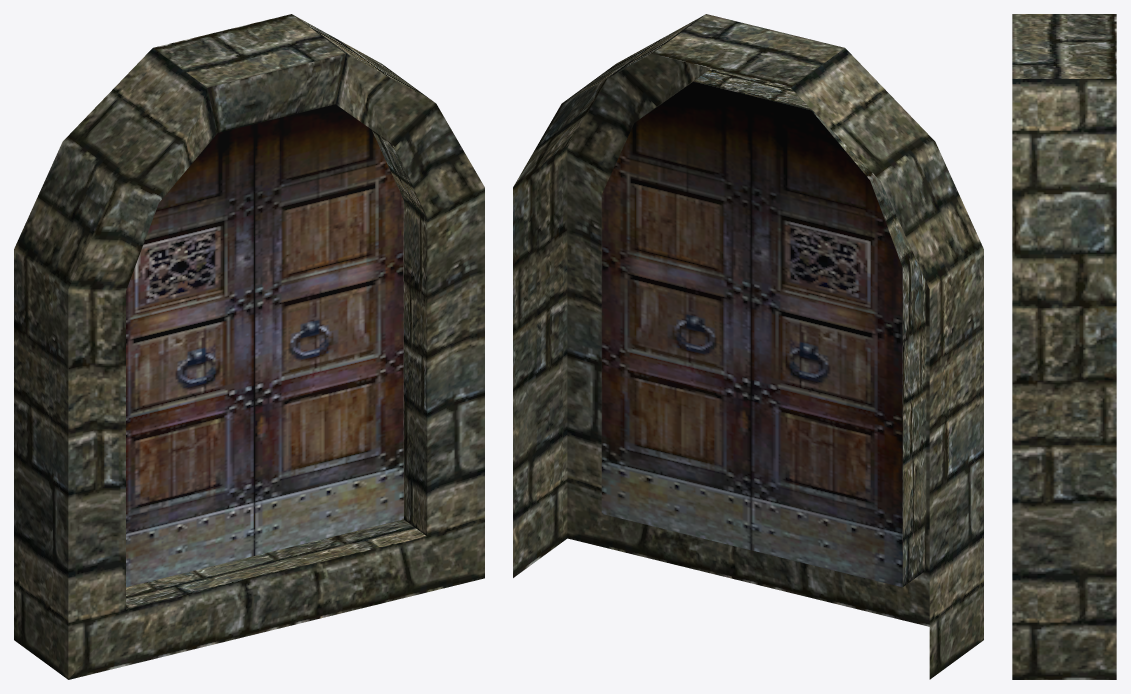
File: cci10.glb
3 views of the same model, side by side, from view 1: azimuth 30°, elevation 25°; view 2: azimuth 150°, elevation 25°; view 3: azimuth 270°, elevation 25° (orthographic). The views are drawn at different scales.
Parts seen in each view (by area): view 1: cci10-col; view 2: cci10-col; view 3: cci10-col.
Boxes of the visible parts, bbox=[...] form: cci10-col: bbox=[14, 14, 484, 679]; cci10-col: bbox=[513, 14, 983, 679]; cci10-col: bbox=[1012, 14, 1116, 679].
Size of the model in its own units: 2.73 by 3.5 by 0.6185.
2 materials, 2 textured.
